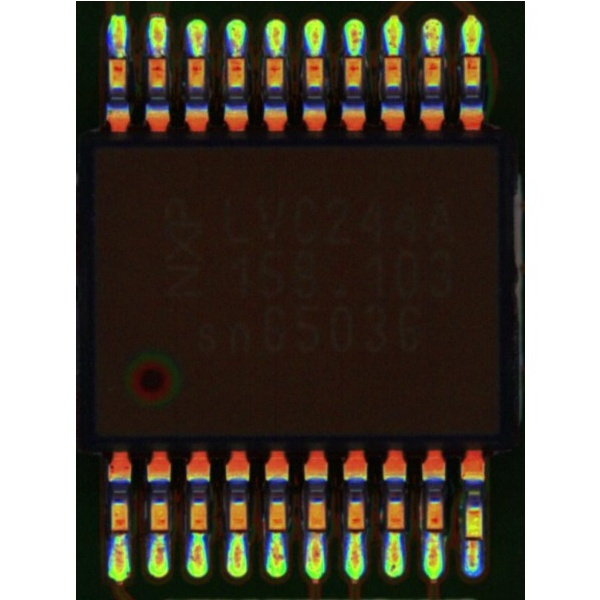Bad_podu: (468, 525, 477, 551)
